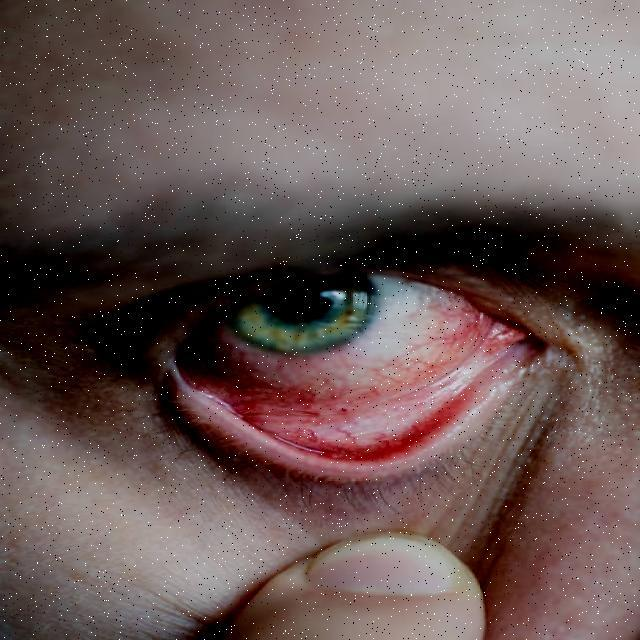Conjunctivitis: (188, 320, 532, 466)
